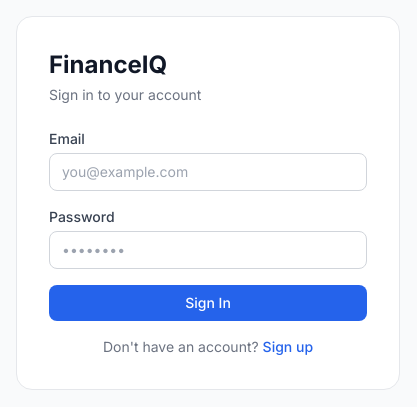
it: LoginPage › shows confirmation message after successful signup
Click the button "Sign up" at (288, 347), box top-left (263, 337), bottom-right (313, 357)
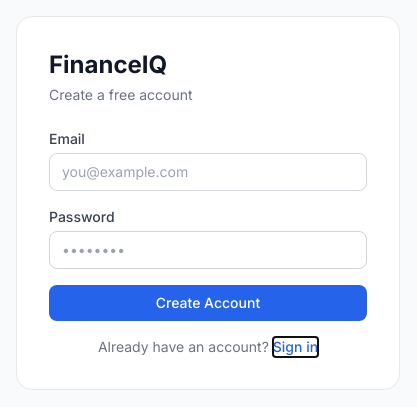
Type "new@example.com" into the field with placeholder "you@example.com" at (208, 172), box top-left (49, 153), bottom-right (367, 191)
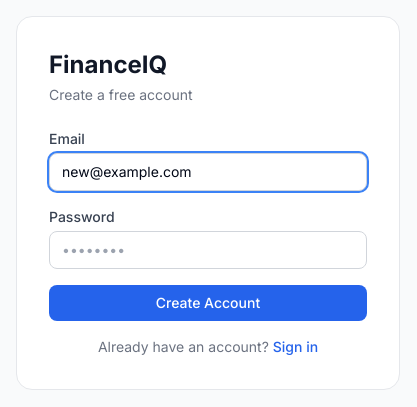
Type "password123" into the password field with placeholder "••••••••" at (208, 250), box top-left (49, 231), bottom-right (367, 269)
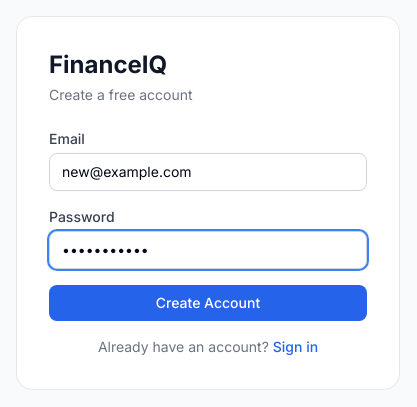
Click the button "Create Account" at (208, 303), box top-left (49, 285), bottom-right (367, 321)
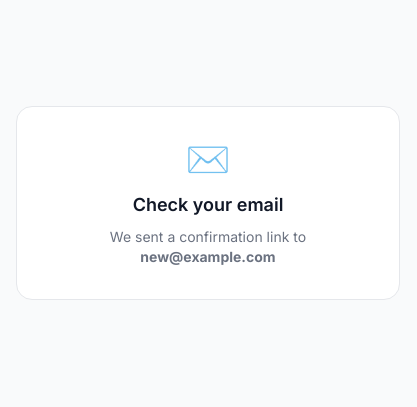
Now the heading "Check your email" is shown, box top-left (133, 194), bottom-right (283, 215)
